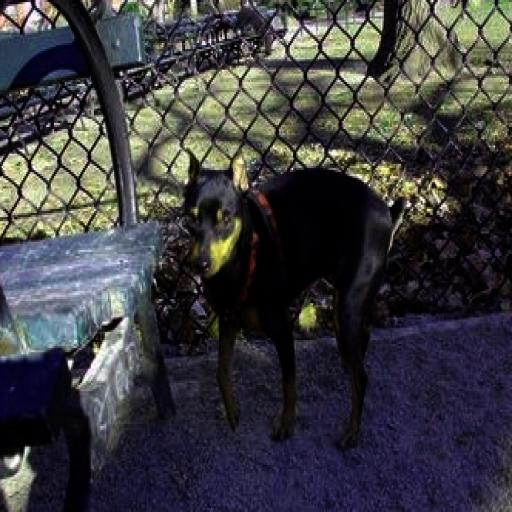dog_face: (178, 148, 251, 272)
